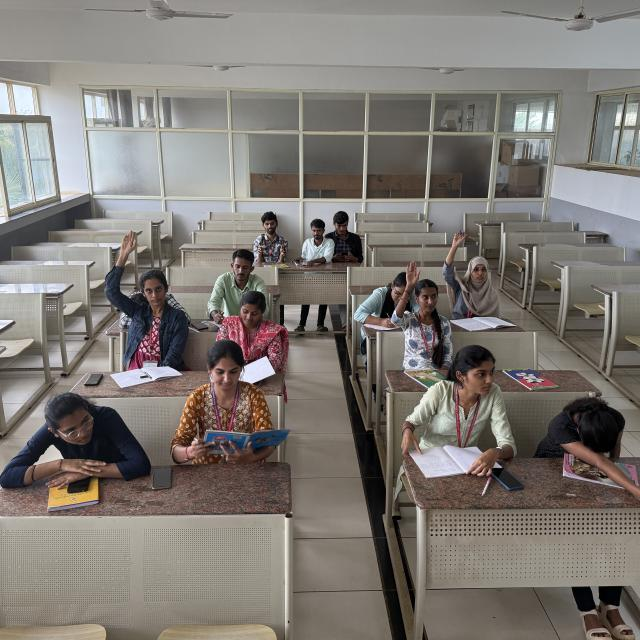Hand Rising: (100, 230, 184, 356), (392, 261, 449, 358), (444, 227, 501, 316)
Reading: (172, 338, 290, 464), (217, 288, 278, 387)
Sleeping: (536, 395, 640, 463)
Using Phone: (326, 212, 362, 261)
Writing: (207, 249, 264, 327), (356, 274, 408, 332)
